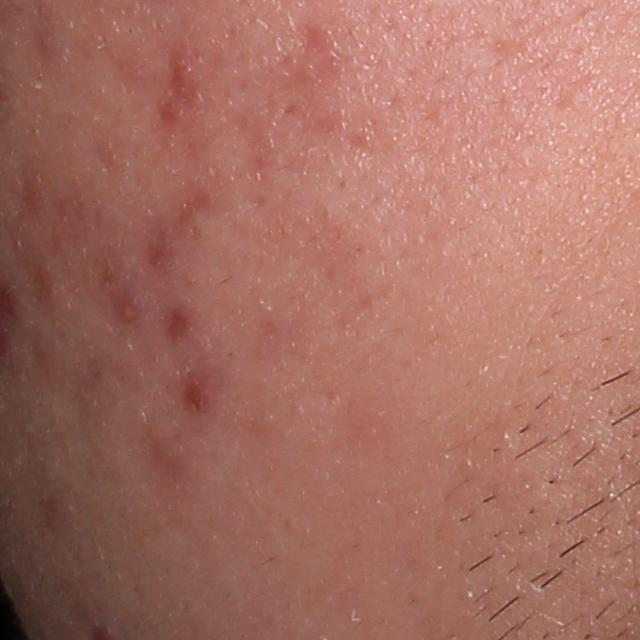papule: (180, 372, 212, 411)
